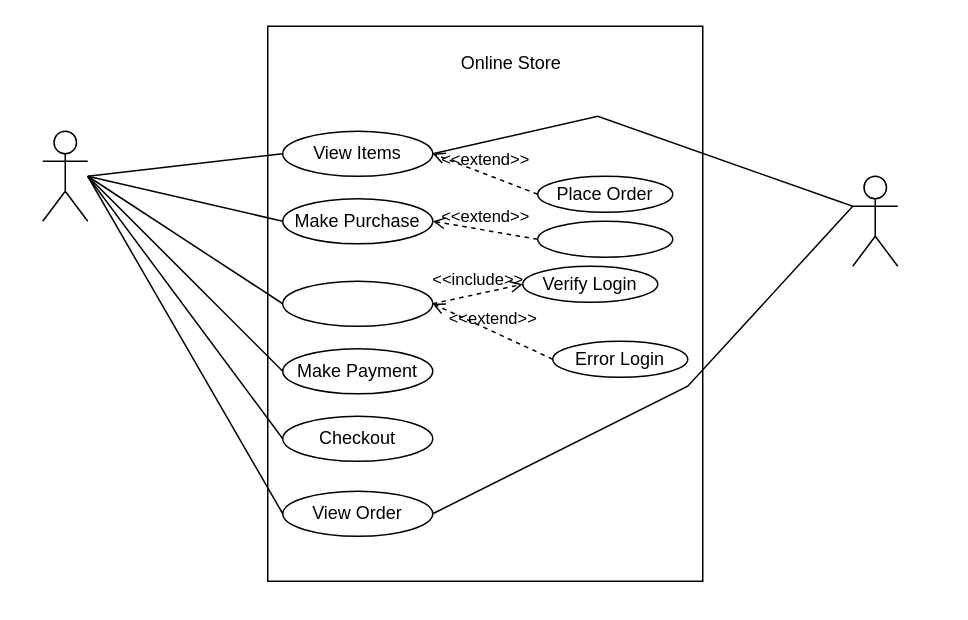
This 968x620 diagram has some shape labels left out. Here are the shapes that lost their labels. From the top down, the centre of each, then its label:
At (64,175): "Customer".
At (604,238): "Cancel Order".
At (874,220): "Owner/Merchant".
At (357,303): "Login".
